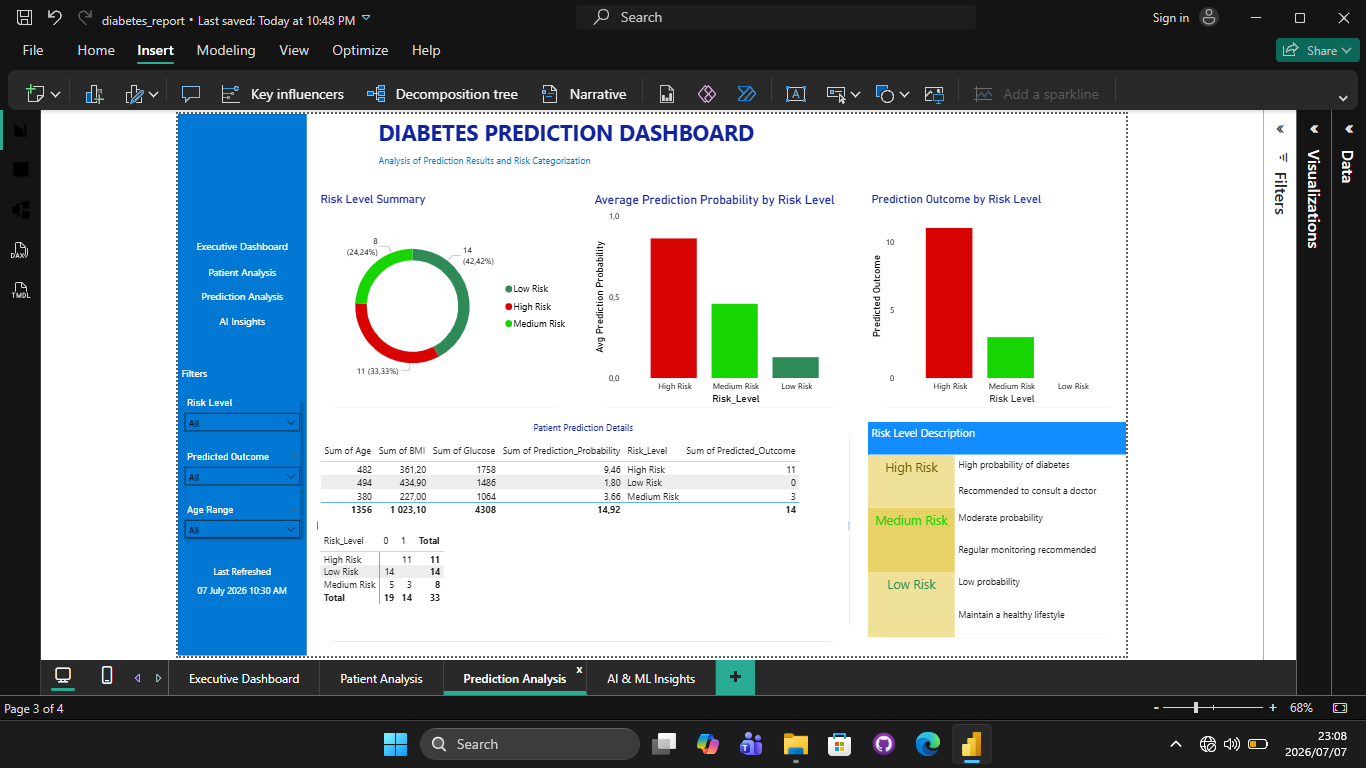

This screenshot's page, from the dashboard's own definition file:
{"tool":"powerbi","page":{"name":"Prediction Analysis","canvas":[1400,800],"ordinal":2},"visuals":[{"type":"shape","box":[0,0,189.7,799.4],"z":0},{"type":"textbox","box":[0,180.6,189.7,37.6],"z":1000},{"type":"textbox","box":[0,218.3,189.7,36.1],"z":2000},{"type":"textbox","box":[0,254.4,189.7,36.1],"z":3000},{"type":"textbox","box":[0,290.5,189.7,34.6],"z":4000},{"type":"shape","box":[0,414,189.7,219.8],"z":5000},{"type":"textbox","box":[0,367.3,189.7,33.1],"z":6000},{"type":"slicer","fields":{"Values":["Diabetes_Predictions.Risk_Level"]},"box":[0,414,189.7,67.7],"z":7000},{"type":"slicer","fields":{"Values":["Diabetes_Predictions.Predicted_Outcome"]},"box":[0,492.3,189.7,63.2],"z":8000},{"type":"slicer","fields":{"Values":["Diabetes_Predictions.Age"]},"box":[0,570.5,189.7,63.2],"z":9000},{"type":"textbox","box":[0,660.9,189.7,28.6],"z":10000},{"type":"textbox","box":[0,689.5,189.7,31.6],"z":11000},{"type":"textbox","box":[290.5,0,1109.5,54.2],"z":12000},{"type":"textbox","box":[290.5,54.2,1109.5,33.1],"z":13000},{"type":"shape","box":[204.7,114.4,380.9,317.6],"z":14000},{"type":"shape","box":[204.7,448.6,785.8,329.7],"z":15000},{"type":"shape","box":[1019.1,114.4,380.9,317.6],"z":16000},{"type":"shape","box":[609.7,114.4,380.9,317.6],"z":17000},{"type":"shape","box":[1019.1,454.6,380.9,317.6],"z":18000},{"type":"clusteredColumnChart","title":"Average Prediction Probability by Risk Level","fields":{"Category":["Diabetes_Predictions.Risk_Level"],"Y":["Diabetes_Predictions.Avg Prediction Probability"]},"box":[609.7,114.4,380.9,317.6],"z":19000},{"type":"donutChart","title":"Risk Level Summary","fields":{"Category":["Diabetes_Predictions.Risk_Level"],"Y":["Diabetes_Predictions.Total Patients"]},"box":[204.7,114.4,380.9,317.6],"z":20000},{"type":"clusteredColumnChart","title":"Prediction Outcome by Risk Level","fields":{"Y":["Sum(Diabetes_Predictions.Predicted_Outcome)"],"Category":["Diabetes_Predictions.Risk_Level"]},"box":[1019.1,114.4,380.9,317.6],"z":21000},{"type":"tableEx","title":"Patient Prediction Details","fields":{"Values":["Sum(Diabetes_Predictions.Age)","Sum(Diabetes_Predictions.BMI)","Sum(Diabetes_Predictions.Glucose)","Sum(Diabetes_Predictions.Prediction_Probability)","Diabetes_Predictions.Risk_Level","Sum(Diabetes_Predictions.Predicted_Outcome)"]},"box":[204.7,481.7,785.8,120.4],"z":22000},{"type":"textbox","box":[204.7,448.6,785.8,33.1],"z":23000},{"type":"pivotTable","fields":{"Rows":["Diabetes_Predictions.Risk_Level"],"Columns":["Diabetes_Predictions.Predicted_Outcome"],"Values":["Diabetes_Predictions.Total Patients"]},"box":[204.7,614.2,785.8,164.1],"z":24000},{"type":"textbox","box":[1019.1,454.6,380.9,48.2],"z":25000},{"type":"textbox","box":[1019.1,502.8,128,78.3],"z":26000},{"type":"textbox","box":[1019.1,581.1,128,94.8],"z":27000},{"type":"textbox","box":[1019.1,675.9,128,96.3],"z":28000},{"type":"textbox","box":[1147.1,502.8,252.9,39.1],"z":29000},{"type":"textbox","box":[1147.1,541.9,252.9,39.1],"z":30000},{"type":"textbox","box":[1147.1,581.1,252.9,48.2],"z":31000},{"type":"textbox","box":[1147.1,629.2,252.9,46.7],"z":32000},{"type":"textbox","box":[1147.1,675.9,252.9,48.2],"z":33000},{"type":"textbox","box":[1147.1,724.1,252.9,48.2],"z":34000}]}

Visuals, with their boxes on the page's 1400x800 design canvas (x1, y1, x2, y2). These are canvas units, not pixel positions in the 1366x768 screenshot, which may show the page scaled, cropped or inside an application window:
shape: (left=0, top=0, right=190, bottom=799)
textbox: (left=0, top=181, right=190, bottom=218)
textbox: (left=0, top=218, right=190, bottom=254)
textbox: (left=0, top=254, right=190, bottom=290)
textbox: (left=0, top=290, right=190, bottom=325)
shape: (left=0, top=414, right=190, bottom=634)
textbox: (left=0, top=367, right=190, bottom=400)
slicer - Diabetes_Predictions.Risk_Level: (left=0, top=414, right=190, bottom=482)
slicer - Diabetes_Predictions.Predicted_Outcome: (left=0, top=492, right=190, bottom=556)
slicer - Diabetes_Predictions.Age: (left=0, top=570, right=190, bottom=634)
textbox: (left=0, top=661, right=190, bottom=690)
textbox: (left=0, top=690, right=190, bottom=721)
textbox: (left=290, top=0, right=1400, bottom=54)
textbox: (left=290, top=54, right=1400, bottom=87)
shape: (left=205, top=114, right=586, bottom=432)
shape: (left=205, top=449, right=990, bottom=778)
shape: (left=1019, top=114, right=1400, bottom=432)
shape: (left=610, top=114, right=991, bottom=432)
shape: (left=1019, top=455, right=1400, bottom=772)
"Average Prediction Probability by Risk Level" clusteredColumnChart: (left=610, top=114, right=991, bottom=432)
"Risk Level Summary" donutChart: (left=205, top=114, right=586, bottom=432)
"Prediction Outcome by Risk Level" clusteredColumnChart: (left=1019, top=114, right=1400, bottom=432)
"Patient Prediction Details" tableEx: (left=205, top=482, right=990, bottom=602)
textbox: (left=205, top=449, right=990, bottom=482)
pivotTable - Diabetes_Predictions.Risk_Level x Diabetes_Predictions.Predicted_Outcome: (left=205, top=614, right=990, bottom=778)
textbox: (left=1019, top=455, right=1400, bottom=503)
textbox: (left=1019, top=503, right=1147, bottom=581)
textbox: (left=1019, top=581, right=1147, bottom=676)
textbox: (left=1019, top=676, right=1147, bottom=772)
textbox: (left=1147, top=503, right=1400, bottom=542)
textbox: (left=1147, top=542, right=1400, bottom=581)
textbox: (left=1147, top=581, right=1400, bottom=629)
textbox: (left=1147, top=629, right=1400, bottom=676)
textbox: (left=1147, top=676, right=1400, bottom=724)
textbox: (left=1147, top=724, right=1400, bottom=772)
